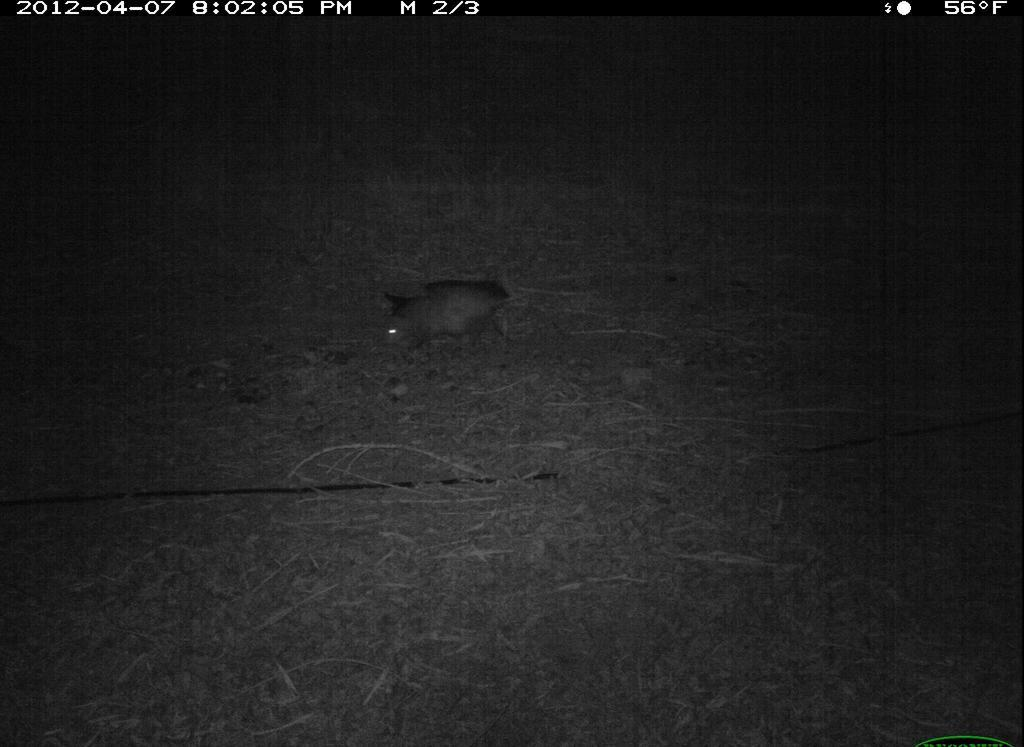opossum: (373, 281, 543, 365)
